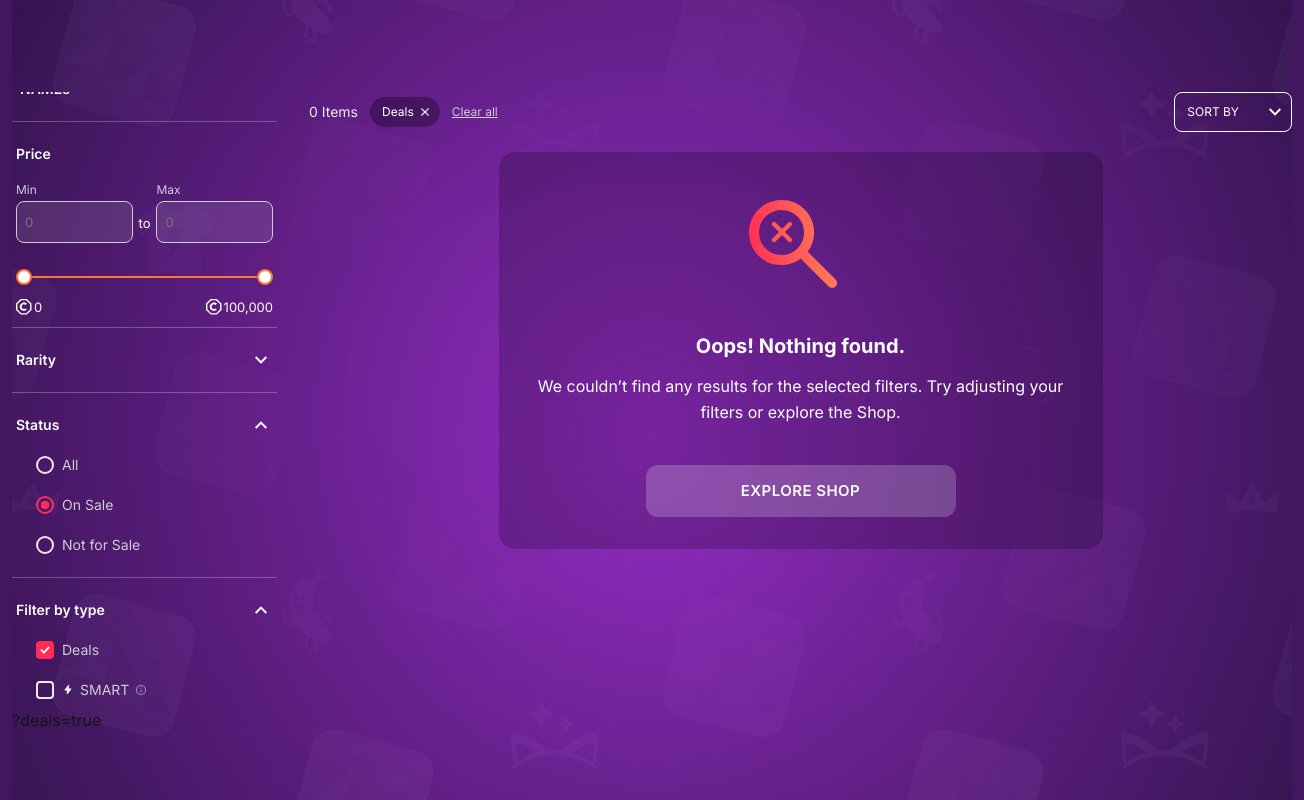
it: Assets — the Deals filter › and the buyer clears the applied filter › should drop the discount sort with it, rather than rank a grid where nothing is discounted
(page scrolled)
expect the text with test id "location-search" shows "deals=true": met, box [12,710,101,730]
Click the checkbox with test id "deals-toggle".
click(45, 650)  # box [36,641,54,659]
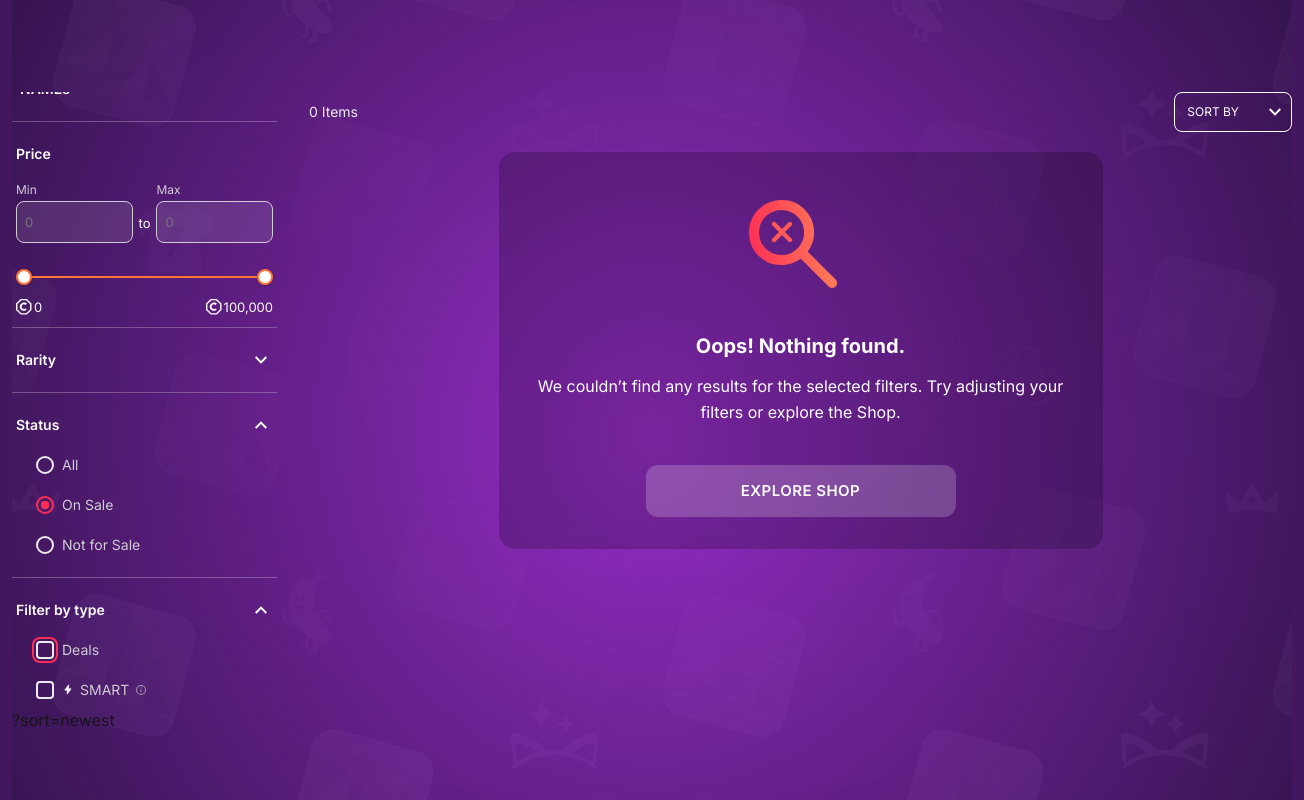
expect the text with test id "location-search" no longer shows "deals=true": met
